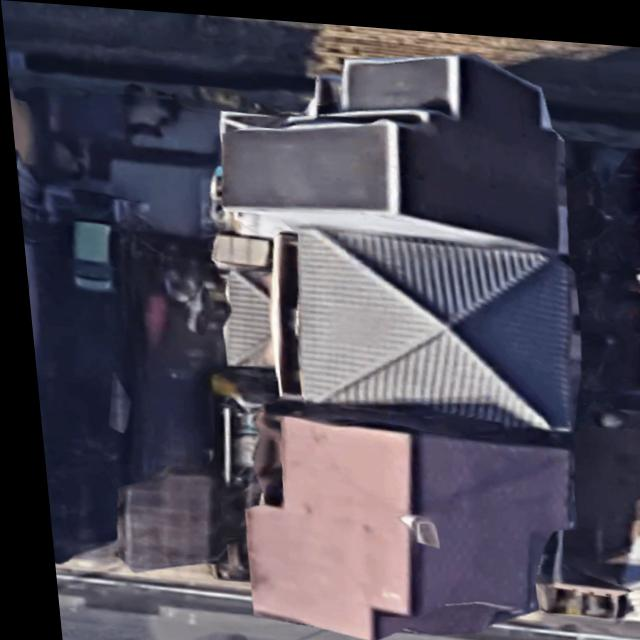Batiment: (235, 413, 562, 635), (217, 224, 570, 422), (218, 48, 561, 243)
